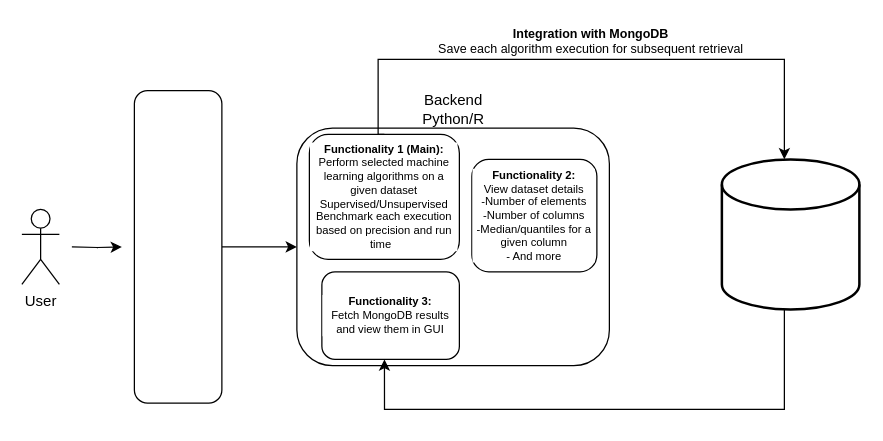
This 883x441 diagram has some shape labels left out. The centre of each missing label's shape, as x and y in pixels:
GUI Probably in Python: point 177,246
NoSQL Cloud Database MongoDB 1 or more collections (tables): point 790,234
